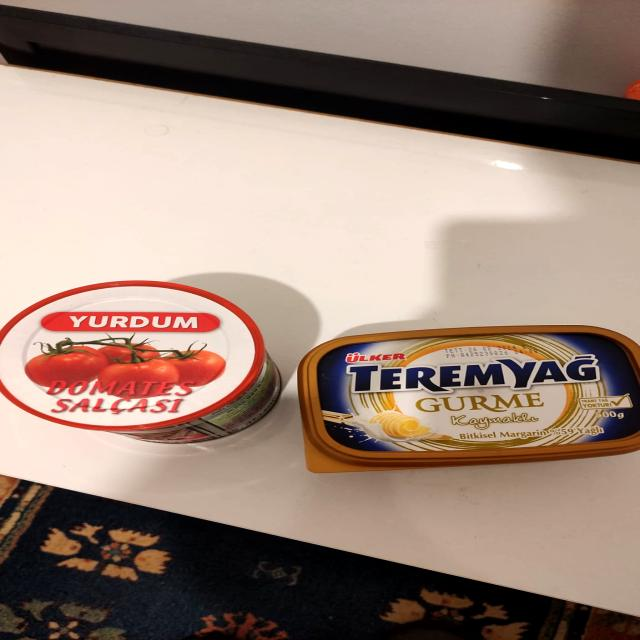margarine: (288, 318, 640, 480)
tomato paste: (0, 276, 286, 452)
